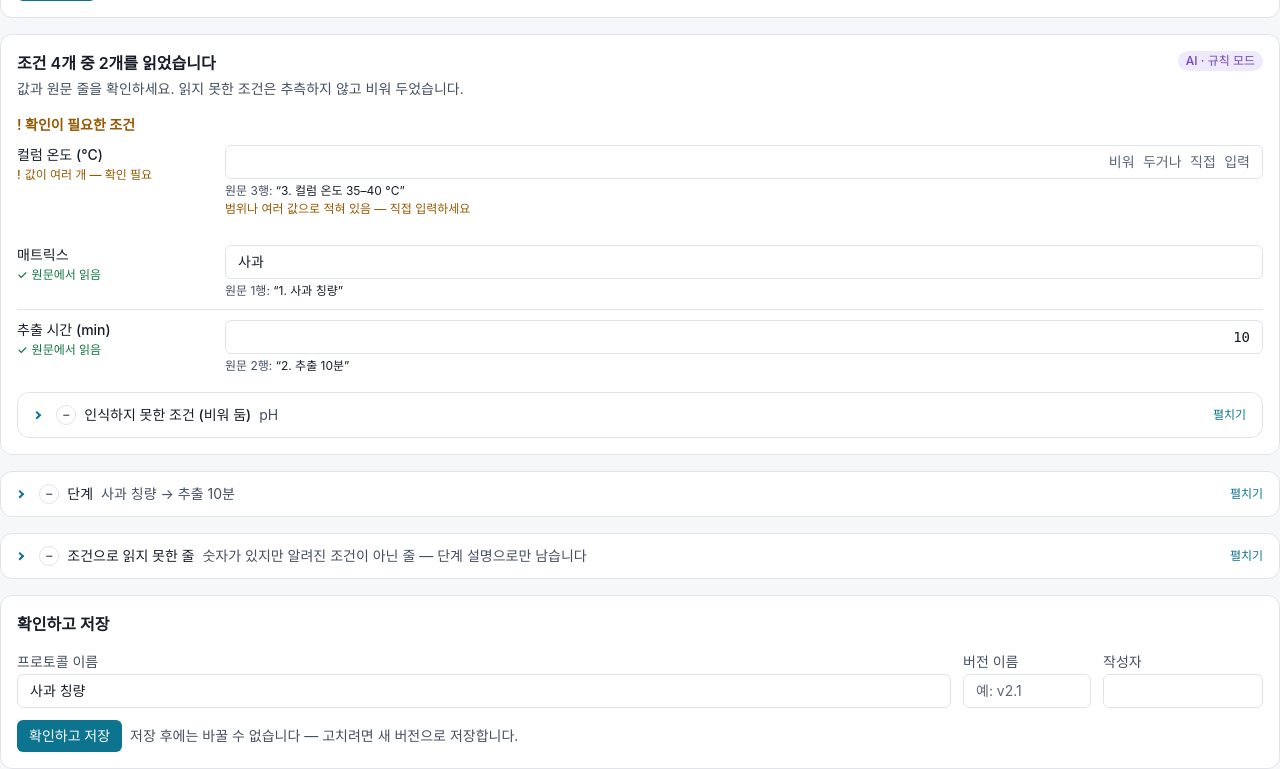
Test: PasteView › refuses a non-numeric value for a numeric key before calling the API
Earlier steps of the test are not shown.
(page scrolled)
What coordinates should you click on to do the following:
click the button "확인하고 저장"
I would click on:
 (70, 736)
Its box is [17,720,122,752].
(page scrolled)
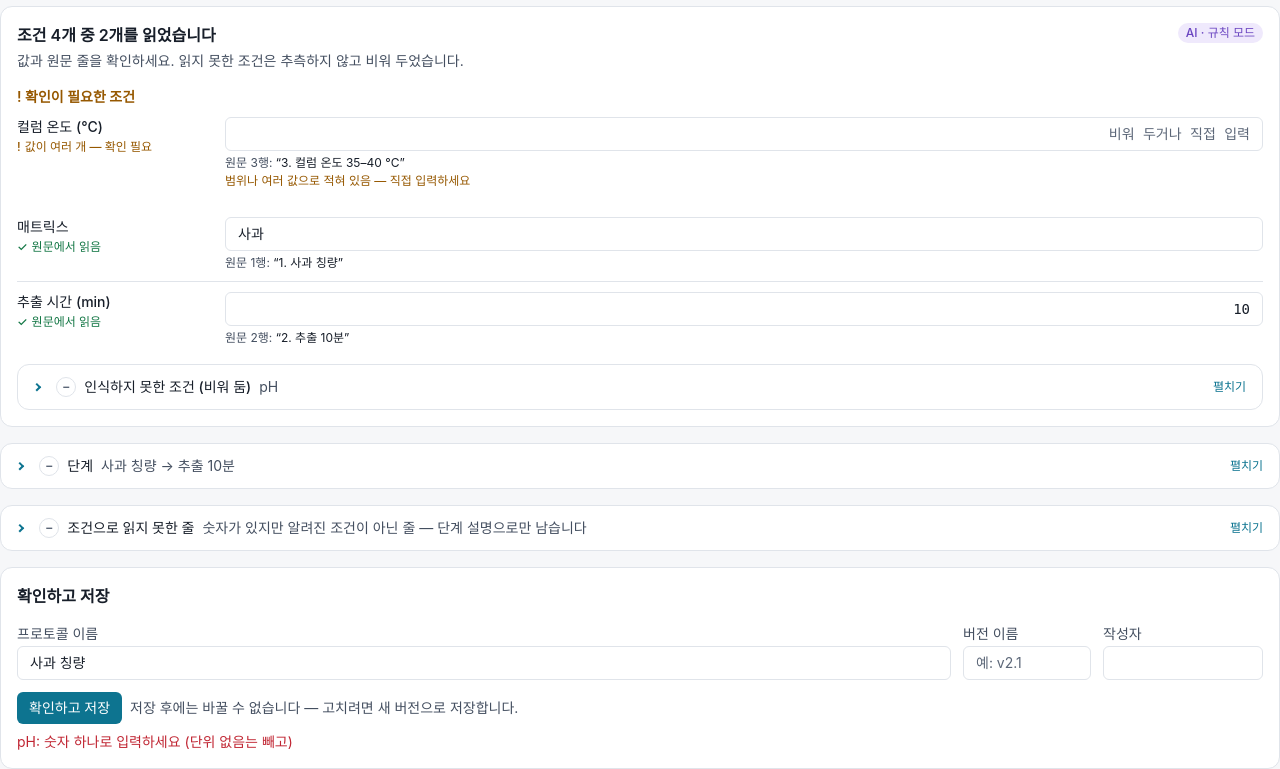
Expected: the text "pH: 숫자 하나로 입력하세요" is shown, [17,733,293,750]
